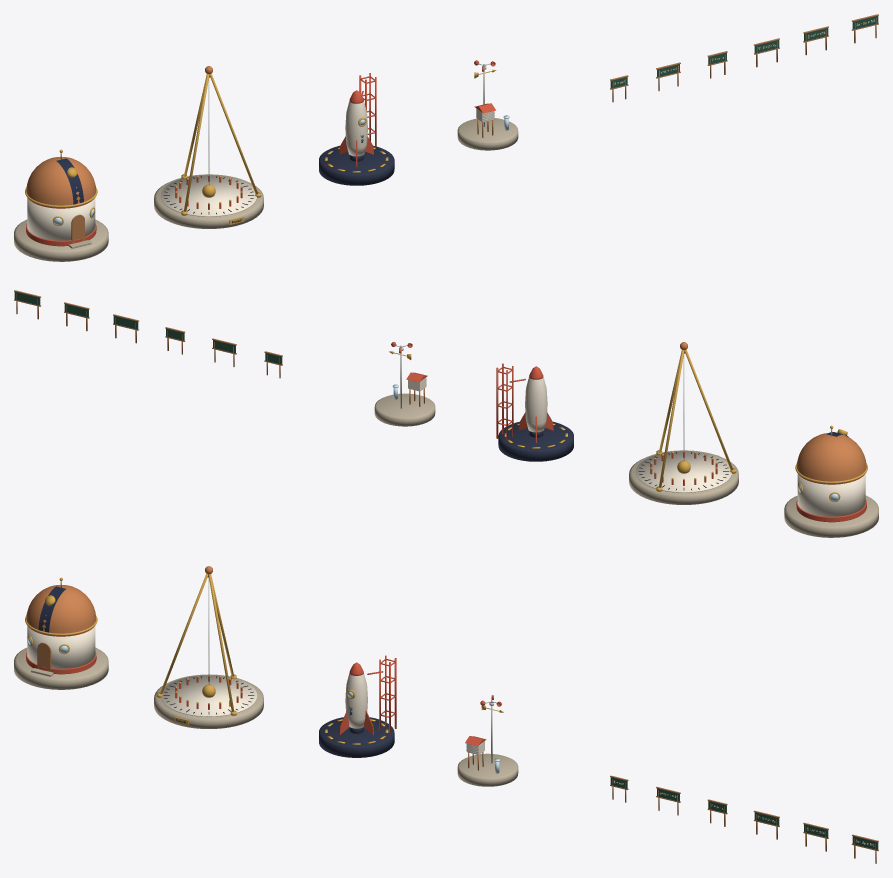
The model's file is landmarks.glb.
The picture shows the model from 3 angles, top to bottom: view 1: azimuth 30°, elevation 25°; view 2: azimuth 150°, elevation 25°; view 3: azimuth 330°, elevation 25°; orthographic projection.
Visible parts, largest first — view 1: Pendulum_Floor, Observatory_Dome, Rocket_Pad, Observatory_Base, Observatory_Drum, Pendulum_Base, Weather_Base, Pendulum_Frame, Rocket_Body, Rocket_Tower, Observatory_Band; view 2: Pendulum_Floor, Observatory_Dome, Rocket_Pad, Observatory_Drum, Observatory_Base, Pendulum_Base, Weather_Base, Pendulum_Frame, Rocket_Body, Rocket_Tower, Observatory_Band; view 3: Pendulum_Floor, Observatory_Dome, Rocket_Pad, Observatory_Base, Observatory_Drum, Pendulum_Base, Weather_Base, Pendulum_Frame, Rocket_Body, Rocket_Tower.
Part boxes in pixels (x1=…): Pendulum_Floor: x1=160, y1=175, x2=256, y2=216; Observatory_Dome: x1=26, y1=157, x2=96, y2=205; Rocket_Pad: x1=319, y1=145, x2=394, y2=185; Observatory_Base: x1=14, y1=219, x2=108, y2=261; Observatory_Drum: x1=27, y1=198, x2=95, y2=240; Pendulum_Base: x1=154, y1=174, x2=263, y2=228; Weather_Base: x1=457, y1=118, x2=518, y2=150; Pendulum_Frame: x1=181, y1=73, x2=261, y2=215; Rocket_Body: x1=345, y1=101, x2=367, y2=156; Rocket_Tower: x1=359, y1=73, x2=376, y2=147; Observatory_Band: x1=26, y1=198, x2=96, y2=246; Pendulum_Floor: x1=635, y1=451, x2=731, y2=492; Observatory_Dome: x1=796, y1=433, x2=866, y2=481; Rocket_Pad: x1=498, y1=421, x2=573, y2=461; Observatory_Drum: x1=797, y1=474, x2=865, y2=516; Observatory_Base: x1=784, y1=495, x2=878, y2=537; Pendulum_Base: x1=629, y1=450, x2=738, y2=504; Weather_Base: x1=374, y1=393, x2=435, y2=426; Pendulum_Frame: x1=656, y1=349, x2=736, y2=491; Rocket_Body: x1=525, y1=377, x2=547, y2=432; Rocket_Tower: x1=496, y1=363, x2=525, y2=440; Observatory_Band: x1=796, y1=474, x2=866, y2=522; Pendulum_Floor: x1=161, y1=675, x2=257, y2=716; Observatory_Dome: x1=26, y1=585, x2=96, y2=633; Rocket_Pad: x1=319, y1=717, x2=394, y2=757; Observatory_Base: x1=14, y1=647, x2=108, y2=689; Observatory_Drum: x1=27, y1=626, x2=95, y2=668; Pendulum_Base: x1=154, y1=674, x2=263, y2=728; Weather_Base: x1=457, y1=753, x2=518, y2=786; Pendulum_Frame: x1=156, y1=573, x2=236, y2=715; Rocket_Body: x1=345, y1=673, x2=367, y2=728; Rocket_Tower: x1=367, y1=655, x2=396, y2=732.
Size of the model in its own units: 52.31 by 8.12 by 5.87.
